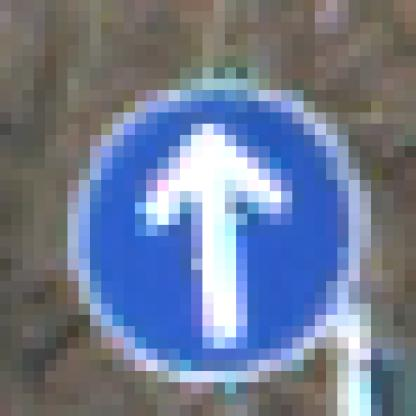AheadOnly: (57, 57, 350, 361)
